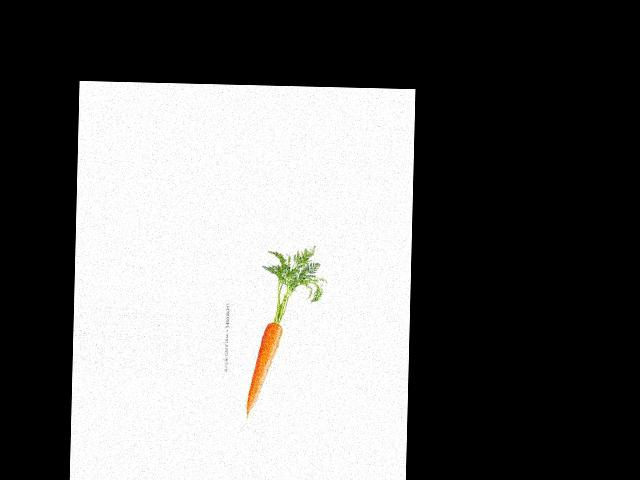carrot: (238, 318, 284, 417)
